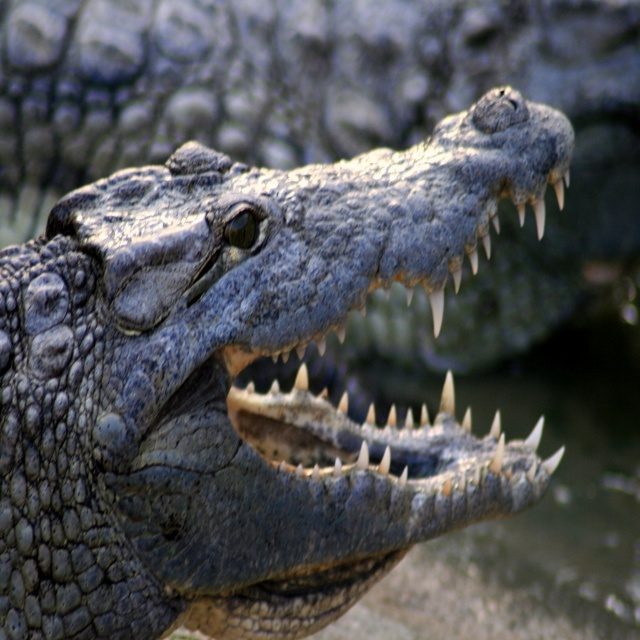Crocodile: (0, 81, 577, 639)
